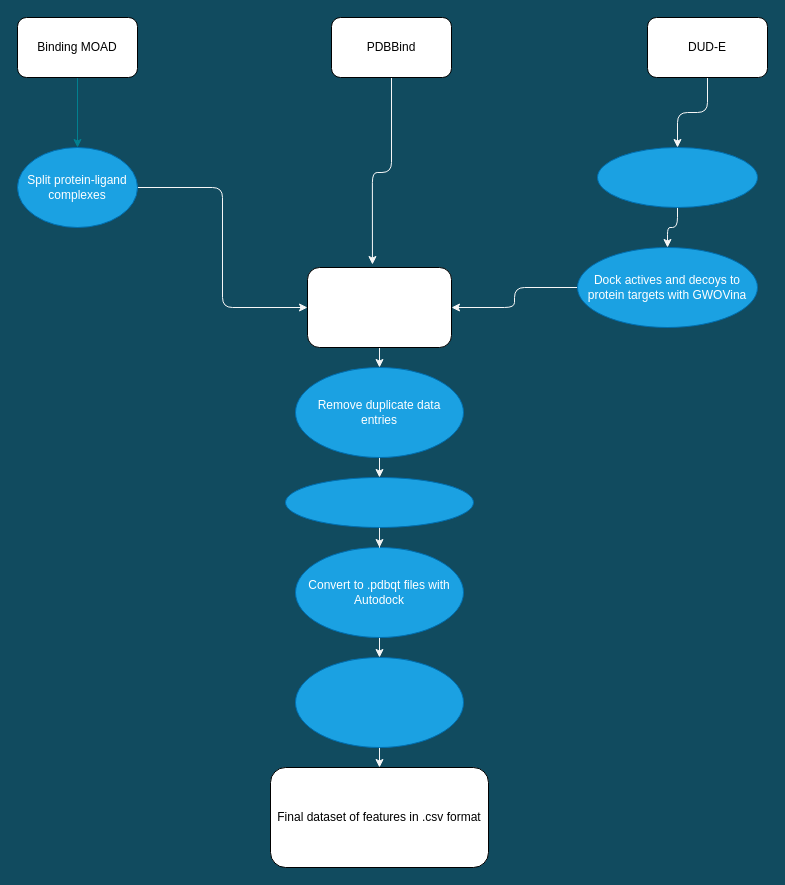
This 785x885 diagram has some shape labels left out. Here are the shapes that lost their labels. From the top down, the centre of each, then its label:
At point 677,177: "Split active and decoy ligand multimol files".
At point 379,307: "Set of protein.pdb and ligand.pdb files".
At point 379,502: "Keep only 'drug-like' molecules".
At point 379,702: "Add features for each complex using BINANA".
